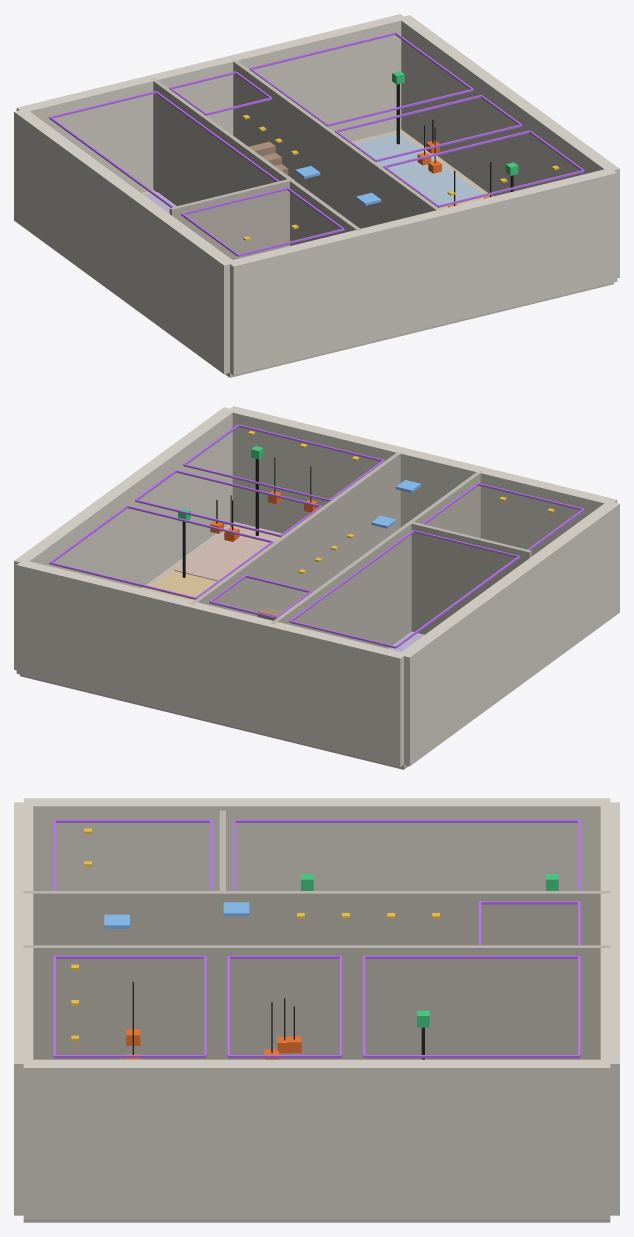
3 renders of one model, top to bottom at view 1: azimuth 30°, elevation 25°; view 2: azimuth 150°, elevation 25°; view 3: azimuth 270°, elevation 25°, orthographic. The views are drawn at different scales.
Parts seen in each view (by area): view 1: Mur_N, Mur_O, Mur_S, Mur_E, Cloison_E_centre, Cloison_O_centre, Cloison_bureau, Zone_Salon, Sol; view 2: Mur_S, Mur_O, Mur_N, Mur_E, Cloison_E_centre, Cloison_O_centre, Cloison_bureau, Zone_Coin_Cuisine, Sol, Zone_Coin_Repas; view 3: Mur_E, Cloison_E_centre, Mur_O, Cloison_O_centre, Mur_N, Mur_S, Sol, Cove_1_O, Cove_4_E, Cove_4_O, Cove_0_O, Cove_2_E (+1 smaller).
Boxes of the visible parts, <box> form: Mur_N: <box>227,169,617,375</box>; Mur_O: <box>14,109,234,374</box>; Mur_S: <box>16,14,406,192</box>; Mur_E: <box>398,15,619,278</box>; Cloison_E_centre: <box>233,58,441,228</box>; Cloison_O_centre: <box>151,78,362,245</box>; Cloison_bureau: <box>169,179,290,259</box>; Zone_Salon: <box>355,133,481,205</box>; Sol: <box>141,129,613,377</box>; Mur_S: <box>16,560,406,767</box>; Mur_O: <box>400,501,619,766</box>; Mur_N: <box>227,406,617,556</box>; Mur_E: <box>14,407,235,670</box>; Cloison_E_centre: <box>190,450,401,616</box>; Cloison_O_centre: <box>270,470,482,648</box>; Cloison_bureau: <box>410,521,531,634</box>; Zone_Coin_Cuisine: <box>174,526,280,581</box>; Sol: <box>20,521,408,769</box>; Zone_Coin_Repas: <box>147,571,216,601</box>; Mur_E: <box>23,1059,610,1219</box>; Cloison_E_centre: <box>23,945,610,1059</box>; Mur_O: <box>23,798,610,890</box>; Cloison_O_centre: <box>23,891,610,945</box>; Mur_N: <box>14,802,33,1215</box>; Mur_S: <box>600,802,619,1215</box>; Sol: <box>23,1220,610,1222</box>; Cove_1_O: <box>234,819,578,822</box>; Cove_4_E: <box>364,1055,579,1058</box>; Cove_4_O: <box>364,955,578,958</box>; Cove_0_O: <box>55,819,210,822</box>; Cove_2_E: <box>54,1055,205,1058</box>.
Bounding box in the file's own units: 9.9 × 2.72 × 9.4.
